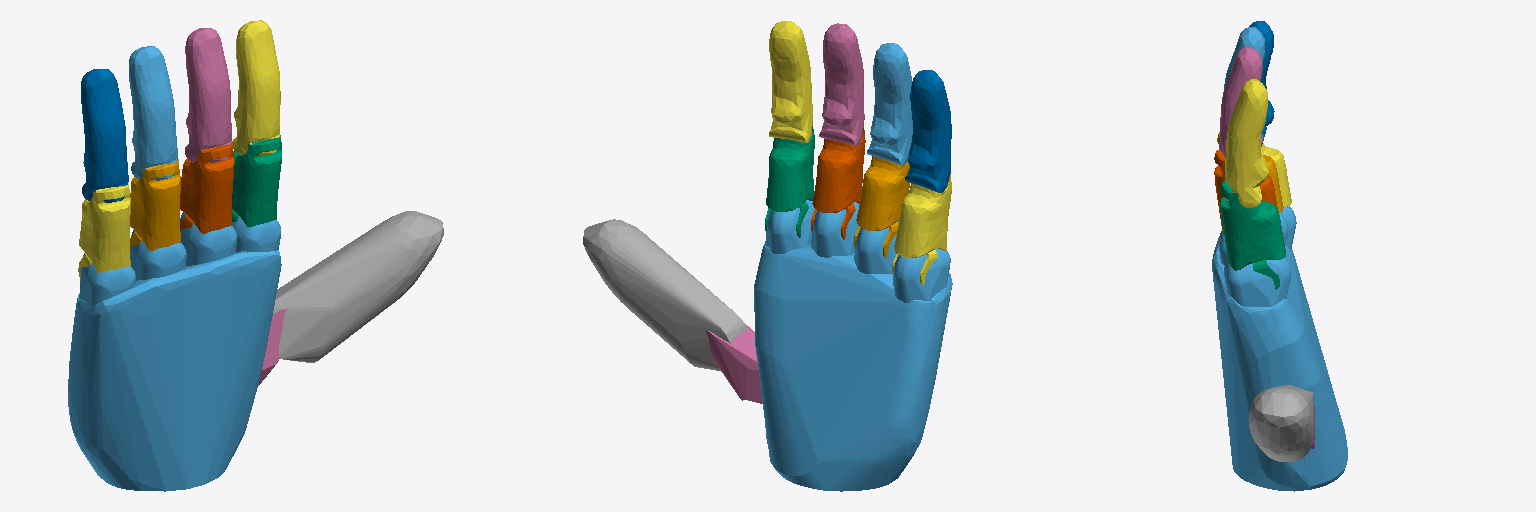
robot.urdf — ability_hand:
<!--
	NOTES:
	Units:
		Distance: m
		Angles: rad (only option)
		Mass: kg
		Inertia: kg*m^2
		
	Notes on intertia:
		-The inertias are calculated for uniform density with weights that may or may not be accurate.
		At the time of this writing only the thumb flexor weight is correct. The palm is a 'best guess' 
		approximation and the fingers are likely off by an order of magnitude
	
	Notes on finger q2:
		-The hand is a 4 bar linkage mechanism forming an 'X'. 4 bar linkages are not supported in the 
		urdf format. The motion of the second finger joint is fully defined by the motion of the first 
		finger joint. The calculation to find the index finger second joint angle given the first is provided
		in a matlab script elsewhere in this repository.
-->
<robot name="ability_hand">


	<link name="base">
		<visual name="wrist_mesh">
			<origin rpy = "0 0 0" xyz = "0 0 0"/>
			<geometry>
				<mesh filename="objects/wristmesh.obj"/>
			</geometry>
		</visual>		
		<inertial>	<!-- the mass and inertia here are NOT correct -->
			<mass value = "0.200"/>
			<inertia ixx="978.26e-6" ixy = "87.34e-6" ixz = "322.99e-6" iyy = "1244.78e-6" iyz = "244.74e-6" izz = "456.22e-6" />
			<origin xyz = "22.41911e-3 -0.15798201e-3 -0.01319866e-3" rpy = "0 0 0"/>
		</inertial>
	</link>
	<joint name="wrist2thumb" type="fixed">
		<parent link="base"/>
		<child link="thumb_base"/>
		<origin xyz = "24.0476665e-3 3.78124745e-3 32.32964923e-3" rpy = "3.14148426 0.08848813 3.14036612"/>
	</joint>

	<link name="thumb_base" >
		<inertial>
			<mass value = "0.400"/>
			<inertia ixx="978.26e-6" ixy = "87.34e-6" ixz = "322.99e-6" iyy = "1244.78e-6" iyz = "244.74e-6" izz = "456.22e-6" />
			<origin xyz = "22.41911e-3 -0.15798201e-3 -0.01319866e-3" rpy = "0 0 0"/>
		</inertial>
						
		<visual name="palm_mesh">
			<origin rpy = "0 0 0" xyz = "0 0 0"/>
			<geometry>
				<mesh filename="objects/FB_palm_ref.obj"/>
			</geometry>
		</visual>		
	</link>
	
	
	
	<link name="index_L1" >
		<inertial>
			<mass value = "0.00635888"/>
			<inertia ixx="0.29766e-6" ixy = "-0.06447133e-6" ixz = "-0.00423315e-6" iyy = "3.6947967e-6" iyz = "0.00083028e-6" izz = "3.8176336e-6" />
			<origin xyz = "22.41911e-3 -0.15798201e-3 -0.01319866e-3" rpy = "0 0 0"/>
		</inertial>
		<visual name="index_mesh_1">
			<origin xyz = "0 0 0" rpy = "0 0 0"/>
			<geometry>
				<mesh filename="objects/idx-F1.obj"/>
			</geometry>
		</visual>
	</link>
	<link name="index_L2" >
		<inertial>
			<mass value = "0.00645"/>
			<inertia ixx="0.82671e-6" ixy = "-1.08876e-6" ixz = "-0.00037e-6" iyy = "1.98028e-6" iyz = "0.00081e-6" izz = "2.64638e-6" />
			<origin rpy = "0 0 0" xyz = "13.36818e-3 -8.75392e-3 -0.02886e-3"/>
		</inertial>		
		<visual name="index_mesh_2">
			<origin rpy = "0 0 0" xyz = "0 0 0"/>
			<geometry>
				<mesh filename="objects/idx-F2-Lg.obj"/>
			</geometry>
		</visual>
	</link>	
	<joint name="index_q1" type="revolute">
		<parent link="thumb_base"/>
		<child link="index_L1"/>
		<origin xyz = "-9.49e-3 -13.04e-3 -62.95e-3" rpy = "-1.982050 1.284473 -2.090591" />
		<axis xyz="0 0 1"/>
		<limit lower = "0" upper = "2.0943951" effort = "6.0" velocity = "8.0677777442"/>		<!-- angles in rad, efforts in N-m, velocity in rad/s -->
		<dynamics damping = "0.001" friction = "0.001" />	<!-- Friction coefficient is not from quantitative measurement -->
	</joint>
	<joint name="index_q2" type="revolute">
		<parent link="index_L1"/>
		<child link="index_L2"/>
		<origin xyz = "38.472723e-3 3.257695e-3 0.000000e-3" rpy = "0 0 0.084474"/>
		<axis xyz="0 0 1"/>
		<limit lower = "0.0" upper = "2.6586" effort = "6.0" velocity = "8.0677777442"/>		<!-- angles in rad, efforts in N-m, velocity in rad/s -->
		<dynamics damping = "0.001" friction = "0.001" />	<!-- Friction coefficient is not from quantitative measurement -->
		<mimic joint = "index_q1" multiplier =  "1.05851325" offset = "0.72349796"/>
	</joint>
	<link name="index_anchor"/>
	<joint name="idx_anchor" type="fixed">
		<parent link = "index_L2"/>
		<child link = "index_anchor"/>
		<origin rpy = "0 0 0" xyz = "31.5541e-3  -10.44e-3 0.14e-3"/>
	</joint>

	

	<link name="middle_L1" >
		<inertial>
			<mass value = "0.00635888"/>
			<inertia ixx="0.29766e-6" ixy = "-0.06447133e-6" ixz = "-0.00423315e-6" iyy = "3.6947967e-6" iyz = "0.00083028e-6" izz = "3.8176336e-6" />
			<origin xyz = "22.41911e-3 -0.15798201e-3 -0.01319866e-3" rpy = "0 0 0"/>
		</inertial>
		
		<visual name="middle_mesh_1">
			<origin rpy = "0 0 0" xyz = "0 0 0"/>
			<geometry>
				<mesh filename="objects/idx-F1.obj"/>
			</geometry>
		</visual>
		
	</link>
	<link name="middle_L2" >
		<inertial>
			<mass value = "0.00645"/>
			<inertia ixx="0.82671e-6" ixy = "-1.08876e-6" ixz = "-0.00037e-6" iyy = "1.98028e-6" iyz = "0.00081e-6" izz = "2.64638e-6" />
			<origin rpy = "0 0 0" xyz = "13.36818e-3 -8.75392e-3 -0.02886e-3"/>
		</inertial>
		<visual name="middle_mesh_2">
			<origin rpy = "0 0 0" xyz = "0 0 0"/>
			<geometry>
				<mesh filename="objects/idx-F2-Lg.obj"/>
			</geometry>
		</visual>
	</link>
	<joint name="middle_q1" type="revolute">
		<parent link="thumb_base"/>
		<child link="middle_L1"/>
		<origin xyz = "9.653191e-3 -15.310271e-3 -67.853949e-3" rpy = "-1.860531 1.308458 -1.896217" />
		<limit lower = "0" upper = "2.0943951" effort = "6.0" velocity = "8.0677777442"/>		<!-- angles in rad, efforts in N-m, velocity in rad/s -->
		<dynamics damping = "0.001" friction = "0.001" />	<!-- Friction coefficient is not from quantitative measurement -->
		<axis xyz="0 0 1"/>
	</joint>
	<joint name="middle_q2" type="revolute">
		<parent link="middle_L1"/>
		<child link="middle_L2"/>
		<origin xyz = "38.472723e-3 3.257695e-3 0.000000" rpy = "0 0 0.084474"/>
		<axis xyz="0 0 1"/>
		<limit lower = "0.0" upper = "2.6586" effort = "6.0" velocity = "8.0677777442"/>		<!-- angles in rad, efforts in N-m, velocity in rad/s -->
		<dynamics damping = "0.001" friction = "0.001" />	<!-- Friction coefficient is not from quantitative measurement -->
		<mimic joint = "middle_q1" multiplier =  "1.05851325" offset = "0.72349796"/>
	</joint>
	<link name="middle_anchor"/>
	<joint name="mid_anchor" type="fixed">
		<parent link = "middle_L2"/>
		<child link = "middle_anchor"/>
		<origin rpy = "0 0 0" xyz = "31.5541e-3  -10.44e-3 0.14e-3"/>
	</joint>





	<link name="ring_L1" >
		<inertial>
			<mass value = "0.00635888"/>
			<inertia ixx="0.29766e-6" ixy = "-0.06447133e-6" ixz = "-0.00423315e-6" iyy = "3.6947967e-6" iyz = "0.00083028e-6" izz = "3.8176336e-6" />
			<origin xyz = "22.41911e-3 -0.15798201e-3 -0.01319866e-3" rpy = "0 0 0"/>
		</inertial>
		
		<visual name="ring_mesh_1">
			<origin rpy = "0 0 0" xyz = "0 0 0"/>
			<geometry>
				<mesh filename="objects/idx-F1.obj"/>
			</geometry>
		</visual>
	</link>
	<link name="ring_L2" >
		<inertial>
			<mass value = "0.00645"/>
			<inertia ixx="0.82671e-6" ixy = "-1.08876e-6" ixz = "-0.00037e-6" iyy = "1.98028e-6" iyz = "0.00081e-6" izz = "2.64638e-6" />
			<origin rpy = "0 0 0" xyz = "13.36818e-3 -8.75392e-3 -0.02886e-3"/>
		</inertial>
		<visual name="ring_mesh_2">
			<origin rpy = "0 0 0" xyz = "0 0 0"/>
			<geometry>
				<mesh filename="objects/idx-F2-Lg.obj"/>
			</geometry>
		</visual>		
	</link>
	<joint name="ring_q1" type="revolute">
		<parent link="thumb_base"/>
		<child link="ring_L1"/>
		<origin xyz = "29.954260e-3 -14.212492e-3 -67.286105e-3" rpy = "-1.716598 1.321452 -1.675862" />
		<limit lower = "0" upper = "2.0943951" effort = "6.0" velocity = "8.0677777442"/>		<!-- angles in rad, efforts in N-m, velocity in rad/s -->
		<dynamics damping = "0.001" friction = "0.001" />	<!-- Friction coefficient is not from quantitative measurement -->
		<axis xyz="0 0 1"/>
	</joint>
	<joint name="ring_q2" type="revolute">
		<parent link="ring_L1"/>
		<child link="ring_L2"/>
		<origin xyz = "38.472723e-3 3.257695e-3 0.000000" rpy = "0 0 0.084474"/>
		<axis xyz="0 0 1"/>
		<limit lower = "0.0" upper = "2.6586" effort = "6.0" velocity = "8.0677777442"/>		<!-- angles in rad, efforts in N-m, velocity in rad/s -->
		<dynamics damping = "0.001" friction = "0.001" />	<!-- Friction coefficient is not from quantitative measurement -->
		<mimic joint = "ring_q1" multiplier =  "1.05851325" offset = "0.72349796"/>
	</joint>
	<link name="ring_anchor"/>
	<joint name="rng_anchor" type="fixed">
		<parent link = "ring_L2"/>
		<child link = "ring_anchor"/>
		<origin rpy = "0 0 0" xyz = "31.5541e-3  -10.44e-3 0.14e-3"/>
	</joint>



	<link name="pinky_L1" >
		<inertial>
			<mass value = "0.00635888"/>
			<inertia ixx="0.29766e-6" ixy = "-0.06447133e-6" ixz = "-0.00423315e-6" iyy = "3.6947967e-6" iyz = "0.00083028e-6" izz = "3.8176336e-6" />
			<origin xyz = "22.41911e-3 -0.15798201e-3 -0.01319866e-3" rpy = "0 0 0"/>
		</inertial>
		
		<visual name="pinky_mesh_1">
			<origin rpy = "0 0 0" xyz = "0 0 0"/>
			<geometry>
				<mesh filename="objects/idx-F1.obj"/>
			</geometry>
		</visual>
	</link>
	<link name="pinky_L2" >
		<inertial>
			<mass value = "0.00645"/>
			<inertia ixx="0.82671e-6" ixy = "-1.08876e-6" ixz = "-0.00037e-6" iyy = "1.98028e-6" iyz = "0.00081e-6" izz = "2.64638e-6" />
			<origin rpy = "0 0 0" xyz = "13.36818e-3 -8.75392e-3 -0.02886e-3"/>
		</inertial>
		<visual name="pinky_mesh_2">
			<origin rpy = "0 0 0" xyz = "0 0 0"/>
			<geometry>
				<mesh filename="objects/idx-F2-Lg.obj"/>
			</geometry>
		</visual>		
	</link>
	<joint name="pinky_q1" type="revolute">
		<parent link="thumb_base"/>
		<child link="pinky_L1"/>
		<origin xyz = "49.521293e-3 -11.004583e-3 -63.029065e-3" rpy = "-1.765110 1.322220 -1.658383" />
		<limit lower = "0" upper = "2.0943951" effort = "6.0" velocity = "8.0677777442"/>		<!-- angles in rad, efforts in N-m, velocity in rad/s -->
		<dynamics damping = "0.001" friction = "0.001" />	<!-- Friction coefficient is not from quantitative measurement -->
		<axis xyz="0 0 1"/>
	</joint>
	<joint name="pinky_q2" type="revolute">
		<parent link="pinky_L1"/>
		<child link="pinky_L2"/>
		<origin xyz = "38.472723e-3 3.257695e-3 0.000000" rpy = "0 0 0.084474"/>
		<limit lower = "0.0" upper = "2.6586" effort = "6.0" velocity = "8.0677777442"/>		<!-- angles in rad, efforts in N-m, velocity in rad/s -->
		<dynamics damping = "0.001" friction = "0.001" />	<!-- Friction coefficient is not from quantitative measurement -->
		<axis xyz="0 0 1"/>
		<mimic joint = "pinky_q1" multiplier =  "1.05851325" offset = "0.72349796"/>
	</joint>
	<link name="pinky_anchor"/>
	<joint name="pnky_anchor" type="fixed">
		<parent link = "pinky_L2"/>
		<child link = "pinky_anchor"/>
		<origin rpy = "0 0 0" xyz = "31.5541e-3  -10.44e-3 0.14e-3"/>
	</joint>



	<link name="thumb_L1" >
		<inertial>
			<mass value = "0.00268342"/>
			<inertia ixx="0.16931e-6" ixy = "-0.076214e-6" ixz = "-0.16959148e-6" iyy = "0.77769934e-6" iyz = "0.0156622e-6" izz = "0.7249122e-6" />
			<origin rpy = "0 0 0" xyz = "14.606e-3 -1.890854e-3 -3.1155356e-3"/>
		</inertial>
		
		<visual name="thumb_mesh_1">
			<origin rpy = "0 0 0" xyz = "0 0 0"/>
			<geometry>
				<mesh filename="objects/thumb-F1.obj"/>
			</geometry>
		</visual>
		
	</link>
	<link name="thumb_L2" >
		<inertial>
			<mass value = "0.0055"/>
			<inertia ixx="4.4789082e-6" ixy = "4.4789082e-6" ixz = "-0.62144934e-6" iyy = "15.600996e-6" iyz = "-0.07466143e-6" izz = "17.908554e-6" />
			<origin rpy = "0 0 0" xyz = "30.020522e-3 5.59476e-3 -4.1504356e-3"/>
		</inertial>
		
		<visual name="thumb_mesh_2">
			<origin rpy = "0 0 0" xyz = "0 0 0"/>
			<geometry>
				<mesh filename="objects/thumb-F2-left.obj"/>
			</geometry>
		</visual>
		
	</link>
	<joint name="thumb_q1" type="revolute">
		<parent link="thumb_base"/>
		<child link="thumb_L1"/>
		<origin xyz = "0 0 0" rpy = "0 0 3.330437"/>
		<axis xyz="0 0 1"/>
		<limit lower = "-2.0943951" upper = "0" effort = "1.2" velocity = "40.338888721"/>		<!-- angles in rad, efforts in N-m, velocity in rad/s -->
		<dynamics damping = "0.001" friction = "0.001" />	<!-- Friction coefficient is not from quantitative measurement -->
	</joint>
	<joint name="thumb_q2" type="revolute">
		<parent link="thumb_L1"/>
		<child link="thumb_L2"/>
		<origin xyz = "27.8283501e-3 0 -14.7507000e-3" rpy = "4.450589592585541 0 0" />
		<axis xyz="0 0 1"/>
		<limit lower = "0" upper = "2.0943951" effort = "6.0" velocity = "8.0677777442"/>		<!-- angles in rad, efforts in N-m, velocity in rad/s -->
		<dynamics damping = "0.001" friction = "0.001" />	<!-- Friction coefficient is not from quantitative measurement -->		
	</joint>
	<link name="thumb_anchor"/>
	<joint name="thmb_anchor" type="fixed">
		<parent link = "thumb_L2"/>
		<child link = "thumb_anchor"/>
		<origin rpy = "0 0 0" xyz = "52.0012259e-3  28.0086971e-3 -.884835778e-3"/>
	</joint>




	<sensor name="fsr1">
		<parent link = "index_L2"/>
		<origin xyz = "[ 0.03678129 -0.01966348  0.        ]" rpy = "[-1.57079633  1.11908681 -1.57079633]"/>
	</sensor>

	<sensor name="fsr2">
		<parent link = "index_L2"/>
		<origin xyz = "[ 0.03087755 -0.01531625  0.        ]" rpy = "[ 1.57079633 -0.25241514  1.57079633]"/>
	</sensor>

	<sensor name="fsr3">
		<parent link = "index_L2"/>
		<origin xyz = "[ 0.03118107 -0.01775288  0.004     ]" rpy = "[-1.57079633  0.51757639 -1.57079633]"/>
	</sensor>

	<sensor name="fsr4">
		<parent link = "index_L2"/>
		<origin xyz = "[ 0.01680497 -0.01308243  0.004     ]" rpy = "[-1.57079633  0.66148388 -1.57079633]"/>
	</sensor>

	<sensor name="fsr5">
		<parent link = "index_L2"/>
		<origin xyz = "[ 0.03118107 -0.01775288 -0.004     ]" rpy = "[-1.57079633  0.51757639 -1.57079633]"/>
	</sensor>

	<sensor name="fsr6">
		<parent link = "index_L2"/>
		<origin xyz = "[ 0.01680497 -0.01308243 -0.004     ]" rpy = "[-1.57079633  0.66148388 -1.57079633]"/>
	</sensor>

	<sensor name="fsr7">
		<parent link = "middle_L2"/>
		<origin xyz = "[ 0.03678129 -0.01966348  0.        ]" rpy = "[-1.57079633  1.11908681 -1.57079633]"/>
	</sensor>

	<sensor name="fsr8">
		<parent link = "middle_L2"/>
		<origin xyz = "[ 0.03087755 -0.01531625  0.        ]" rpy = "[ 1.57079633 -0.25241514  1.57079633]"/>
	</sensor>

	<sensor name="fsr9">
		<parent link = "middle_L2"/>
		<origin xyz = "[ 0.03118107 -0.01775288  0.004     ]" rpy = "[-1.57079633  0.51757639 -1.57079633]"/>
	</sensor>

	<sensor name="fsr10">
		<parent link = "middle_L2"/>
		<origin xyz = "[ 0.01680497 -0.01308243  0.004     ]" rpy = "[-1.57079633  0.66148388 -1.57079633]"/>
	</sensor>

	<sensor name="fsr11">
		<parent link = "middle_L2"/>
		<origin xyz = "[ 0.03118107 -0.01775288 -0.004     ]" rpy = "[-1.57079633  0.51757639 -1.57079633]"/>
	</sensor>

	<sensor name="fsr12">
		<parent link = "middle_L2"/>
		<origin xyz = "[ 0.01680497 -0.01308243 -0.004     ]" rpy = "[-1.57079633  0.66148388 -1.57079633]"/>
	</sensor>

	<sensor name="fsr13">
		<parent link = "ring_L2"/>
		<origin xyz = "[ 0.03678129 -0.01966348  0.        ]" rpy = "[-1.57079633  1.11908681 -1.57079633]"/>
	</sensor>

	<sensor name="fsr14">
		<parent link = "ring_L2"/>
		<origin xyz = "[ 0.03087755 -0.01531625  0.        ]" rpy = "[ 1.57079633 -0.25241514  1.57079633]"/>
	</sensor>

	<sensor name="fsr15">
		<parent link = "ring_L2"/>
		<origin xyz = "[ 0.03118107 -0.01775288  0.004     ]" rpy = "[-1.57079633  0.51757639 -1.57079633]"/>
	</sensor>

	<sensor name="fsr16">
		<parent link = "ring_L2"/>
		<origin xyz = "[ 0.01680497 -0.01308243  0.004     ]" rpy = "[-1.57079633  0.66148388 -1.57079633]"/>
	</sensor>

	<sensor name="fsr17">
		<parent link = "ring_L2"/>
		<origin xyz = "[ 0.03118107 -0.01775288 -0.004     ]" rpy = "[-1.57079633  0.51757639 -1.57079633]"/>
	</sensor>

	<sensor name="fsr18">
		<parent link = "ring_L2"/>
		<origin xyz = "[ 0.01680497 -0.01308243 -0.004     ]" rpy = "[-1.57079633  0.66148388 -1.57079633]"/>
	</sensor>

	<sensor name="fsr19">
		<parent link = "pinky_L2"/>
		<origin xyz = "[ 0.03678129 -0.01966348  0.        ]" rpy = "[-1.57079633  1.11908681 -1.57079633]"/>
	</sensor>

	<sensor name="fsr20">
		<parent link = "pinky_L2"/>
		<origin xyz = "[ 0.03087755 -0.01531625  0.        ]" rpy = "[ 1.57079633 -0.25241514  1.57079633]"/>
	</sensor>

	<sensor name="fsr21">
		<parent link = "pinky_L2"/>
		<origin xyz = "[ 0.03118107 -0.01775288  0.004     ]" rpy = "[-1.57079633  0.51757639 -1.57079633]"/>
	</sensor>

	<sensor name="fsr22">
		<parent link = "pinky_L2"/>
		<origin xyz = "[ 0.01680497 -0.01308243  0.004     ]" rpy = "[-1.57079633  0.66148388 -1.57079633]"/>
	</sensor>

	<sensor name="fsr23">
		<parent link = "pinky_L2"/>
		<origin xyz = "[ 0.03118107 -0.01775288 -0.004     ]" rpy = "[-1.57079633  0.51757639 -1.57079633]"/>
	</sensor>

	<sensor name="fsr24">
		<parent link = "pinky_L2"/>
		<origin xyz = "[ 0.01680497 -0.01308243 -0.004     ]" rpy = "[-1.57079633  0.66148388 -1.57079633]"/>
	</sensor>

	<sensor name="fsr25">
		<parent link = "thumb_L2"/>
		<origin xyz = "[ 0.055422  0.023513 -0.005055]" rpy = "[-1.57079633 -0.40123853 -1.57079633]"/>
	</sensor>

	<sensor name="fsr26">
		<parent link = "thumb_L2"/>
		<origin xyz = "[ 0.047909  0.02312  -0.005728]" rpy = "[-1.57079633 -0.44961601 -1.57079633]"/>
	</sensor>

	<sensor name="fsr27">
		<parent link = "thumb_L2"/>
		<origin xyz = "[0.048227 0.022352 0.000805]" rpy = "[-1.57079633 -0.43229053 -1.57079633]"/>
	</sensor>

	<sensor name="fsr28">
		<parent link = "thumb_L2"/>
		<origin xyz = "[0.036868 0.017111 0.001369]" rpy = "[0. 0. 0.]"/>
	</sensor>

	<sensor name="fsr29">
		<parent link = "thumb_L2"/>
		<origin xyz = "[ 0.049435  0.019437 -0.01097 ]" rpy = "[-1.57079633 -0.44946695 -1.57079633]"/>
	</sensor>

	<sensor name="fsr30">
		<parent link = "thumb_L2"/>
		<origin xyz = "[ 0.038158  0.013997 -0.011211]" rpy = "[ 0. -0.  0.]"/>
	</sensor>

</robot>

--- Facts derived from the render (not from the file) ---
The picture shows the robot from 3 angles, left to right: view 1: azimuth 30°, elevation 25°; view 2: azimuth 150°, elevation 25°; view 3: azimuth 270°, elevation 25°; orthographic projection.
Model ability_hand with 17 links and 16 joints (10 revolute, 6 fixed), rooted at base, posed every joint at zero.
Visible links, largest first — view 1: thumb_base, thumb_L2, index_L2, middle_L2, ring_L2, pinky_L2, middle_L1, pinky_L1, ring_L1, index_L1, thumb_L1; view 2: thumb_base, thumb_L2, index_L2, middle_L2, pinky_L2, ring_L2, pinky_L1, middle_L1, index_L1, ring_L1, thumb_L1; view 3: thumb_base, thumb_L2, index_L2, index_L1, middle_L2, middle_L1, pinky_L2, ring_L2, pinky_L1.
Link boxes in pixels (box(x1,y1,x2,y2)): thumb_base: box(68, 212, 281, 491); thumb_L2: box(273, 211, 443, 362); index_L2: box(233, 20, 280, 155); middle_L2: box(185, 28, 231, 162); ring_L2: box(129, 46, 177, 180); pinky_L2: box(81, 69, 128, 202); middle_L1: box(180, 141, 234, 233); pinky_L1: box(78, 182, 130, 278); ring_L1: box(130, 159, 180, 250); index_L1: box(232, 135, 281, 227); thumb_L1: box(258, 309, 286, 385); thumb_base: box(754, 200, 952, 491); thumb_L2: box(583, 219, 746, 370); index_L2: box(769, 21, 812, 142); middle_L2: box(819, 23, 864, 145); pinky_L2: box(905, 70, 951, 192); ring_L2: box(867, 43, 912, 165); pinky_L1: box(892, 174, 951, 285); middle_L1: box(811, 128, 865, 239); index_L1: box(765, 126, 814, 237); ring_L1: box(854, 156, 909, 258); thumb_L1: box(706, 323, 762, 403); thumb_base: box(1212, 206, 1347, 491); thumb_L2: box(1249, 385, 1313, 461); index_L2: box(1225, 79, 1268, 207); index_L1: box(1220, 180, 1285, 289); middle_L2: box(1219, 46, 1262, 168); middle_L1: box(1214, 149, 1277, 233); pinky_L2: box(1249, 21, 1274, 140); ring_L2: box(1224, 27, 1265, 128); pinky_L1: box(1261, 143, 1291, 207).
Size in the robot's own frame: 0.1568 by 0.053 by 0.1839 metres.
Meshes: 6 distinct files referenced, 12 mesh visuals loaded (6 OBJ).